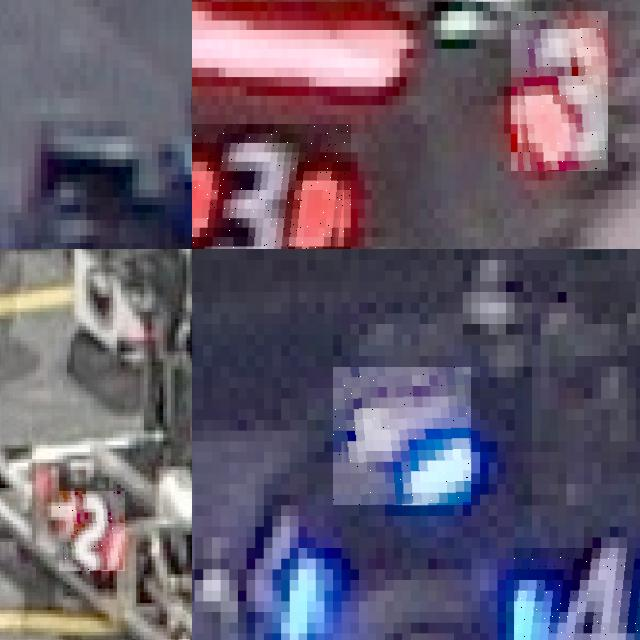B4: (333, 367, 471, 505), (514, 547, 640, 640)
R2: (59, 491, 125, 571)
R3: (192, 124, 351, 249), (511, 11, 608, 171)
